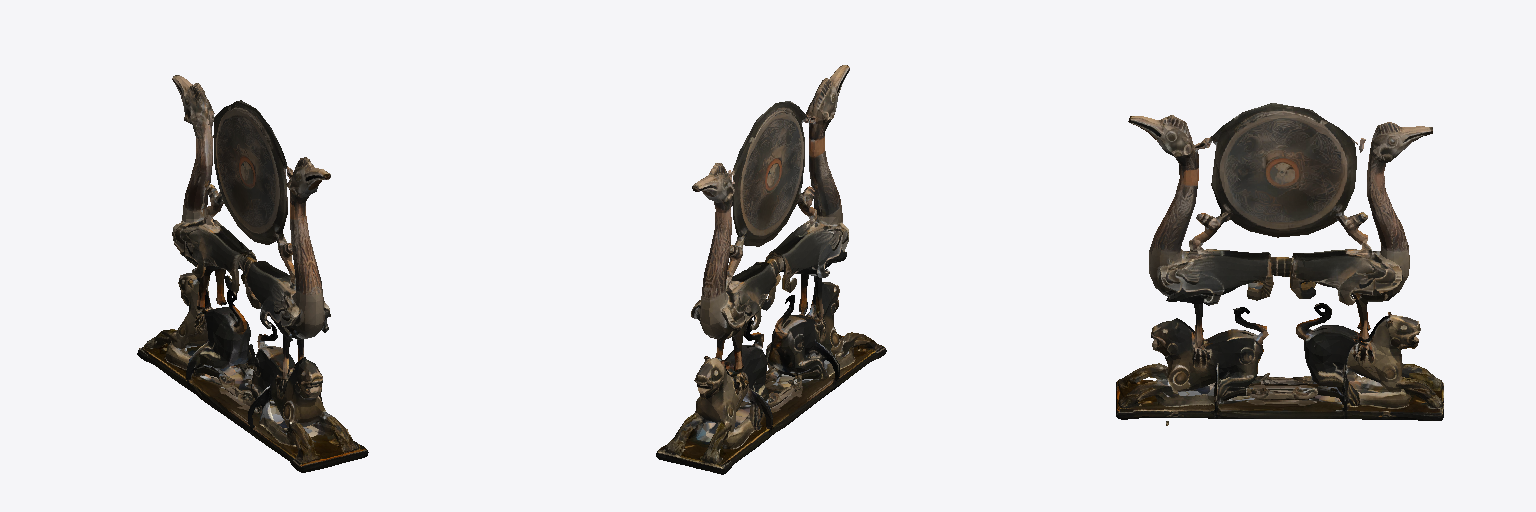
3 views of the same model, side by side, from view 1: azimuth 30°, elevation 25°; view 2: azimuth 150°, elevation 25°; view 3: azimuth 270°, elevation 25° (orthographic).
Visible parts, largest first — view 1: tripo_node_861fc469-3653-4a20-9c75-ac79e3a3ecf0; view 2: tripo_node_861fc469-3653-4a20-9c75-ac79e3a3ecf0; view 3: tripo_node_861fc469-3653-4a20-9c75-ac79e3a3ecf0.
Boxes of the visible parts, x1=… form: tripo_node_861fc469-3653-4a20-9c75-ac79e3a3ecf0: x1=137, y1=75, x2=368, y2=472; tripo_node_861fc469-3653-4a20-9c75-ac79e3a3ecf0: x1=656, y1=65, x2=886, y2=474; tripo_node_861fc469-3653-4a20-9c75-ac79e3a3ecf0: x1=1116, y1=103, x2=1443, y2=425.
Bounding box in the file's own units: 0.2725 × 0.9839 × 0.9683.
1 materials, 1 textured.